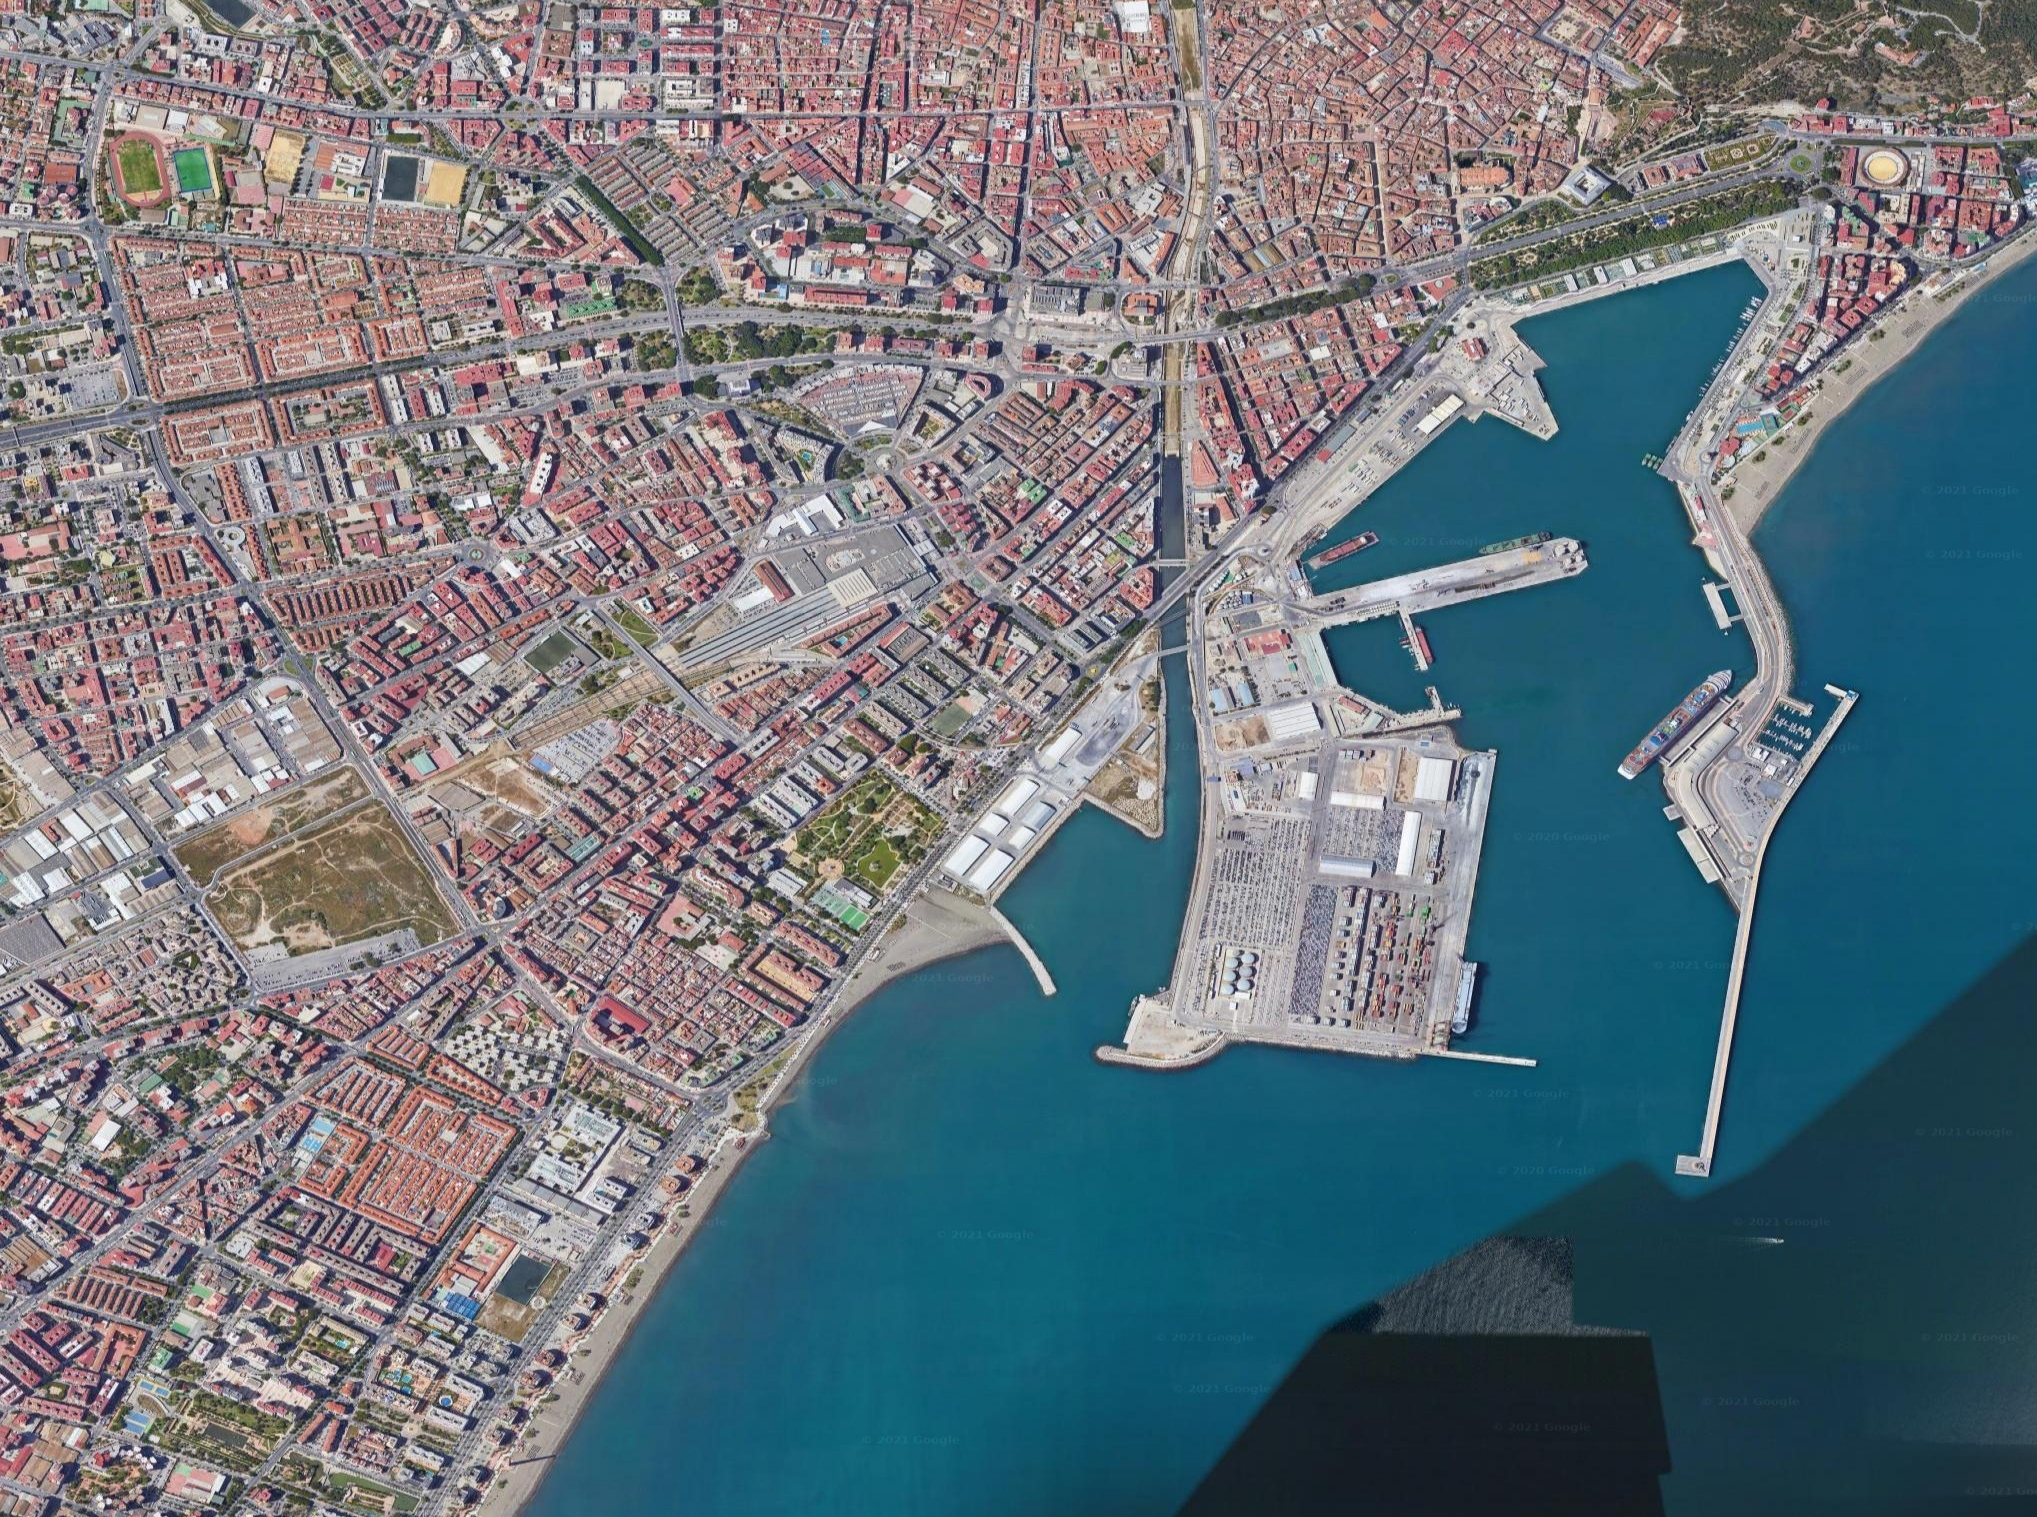harbor: (1014, 269, 1922, 1198)
industrial: (6, 690, 320, 950)
